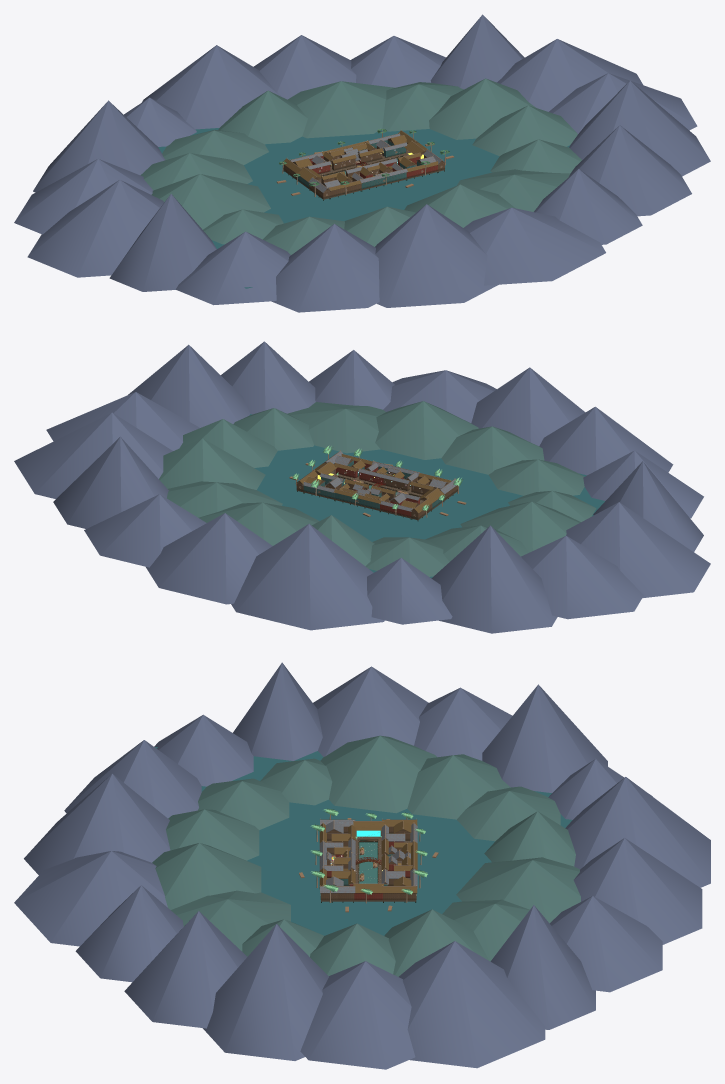
The model's file is lantern.glb.
The picture shows the model from 3 angles, top to bottom: view 1: azimuth 30°, elevation 25°; view 2: azimuth 150°, elevation 25°; view 3: azimuth 270°, elevation 25°; orthographic projection. The views are drawn at different scales.
Size of the model in its own units: 375 by 43.8 by 292.
Materials: 72 (11 with a texture image).
